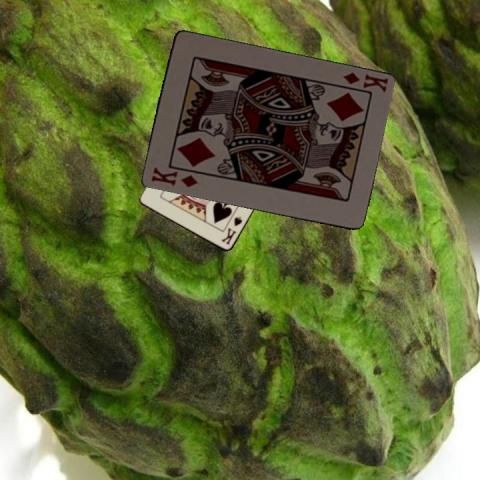Kd: (147, 165, 200, 189), (340, 69, 389, 94)
Ks: (219, 214, 244, 246)
